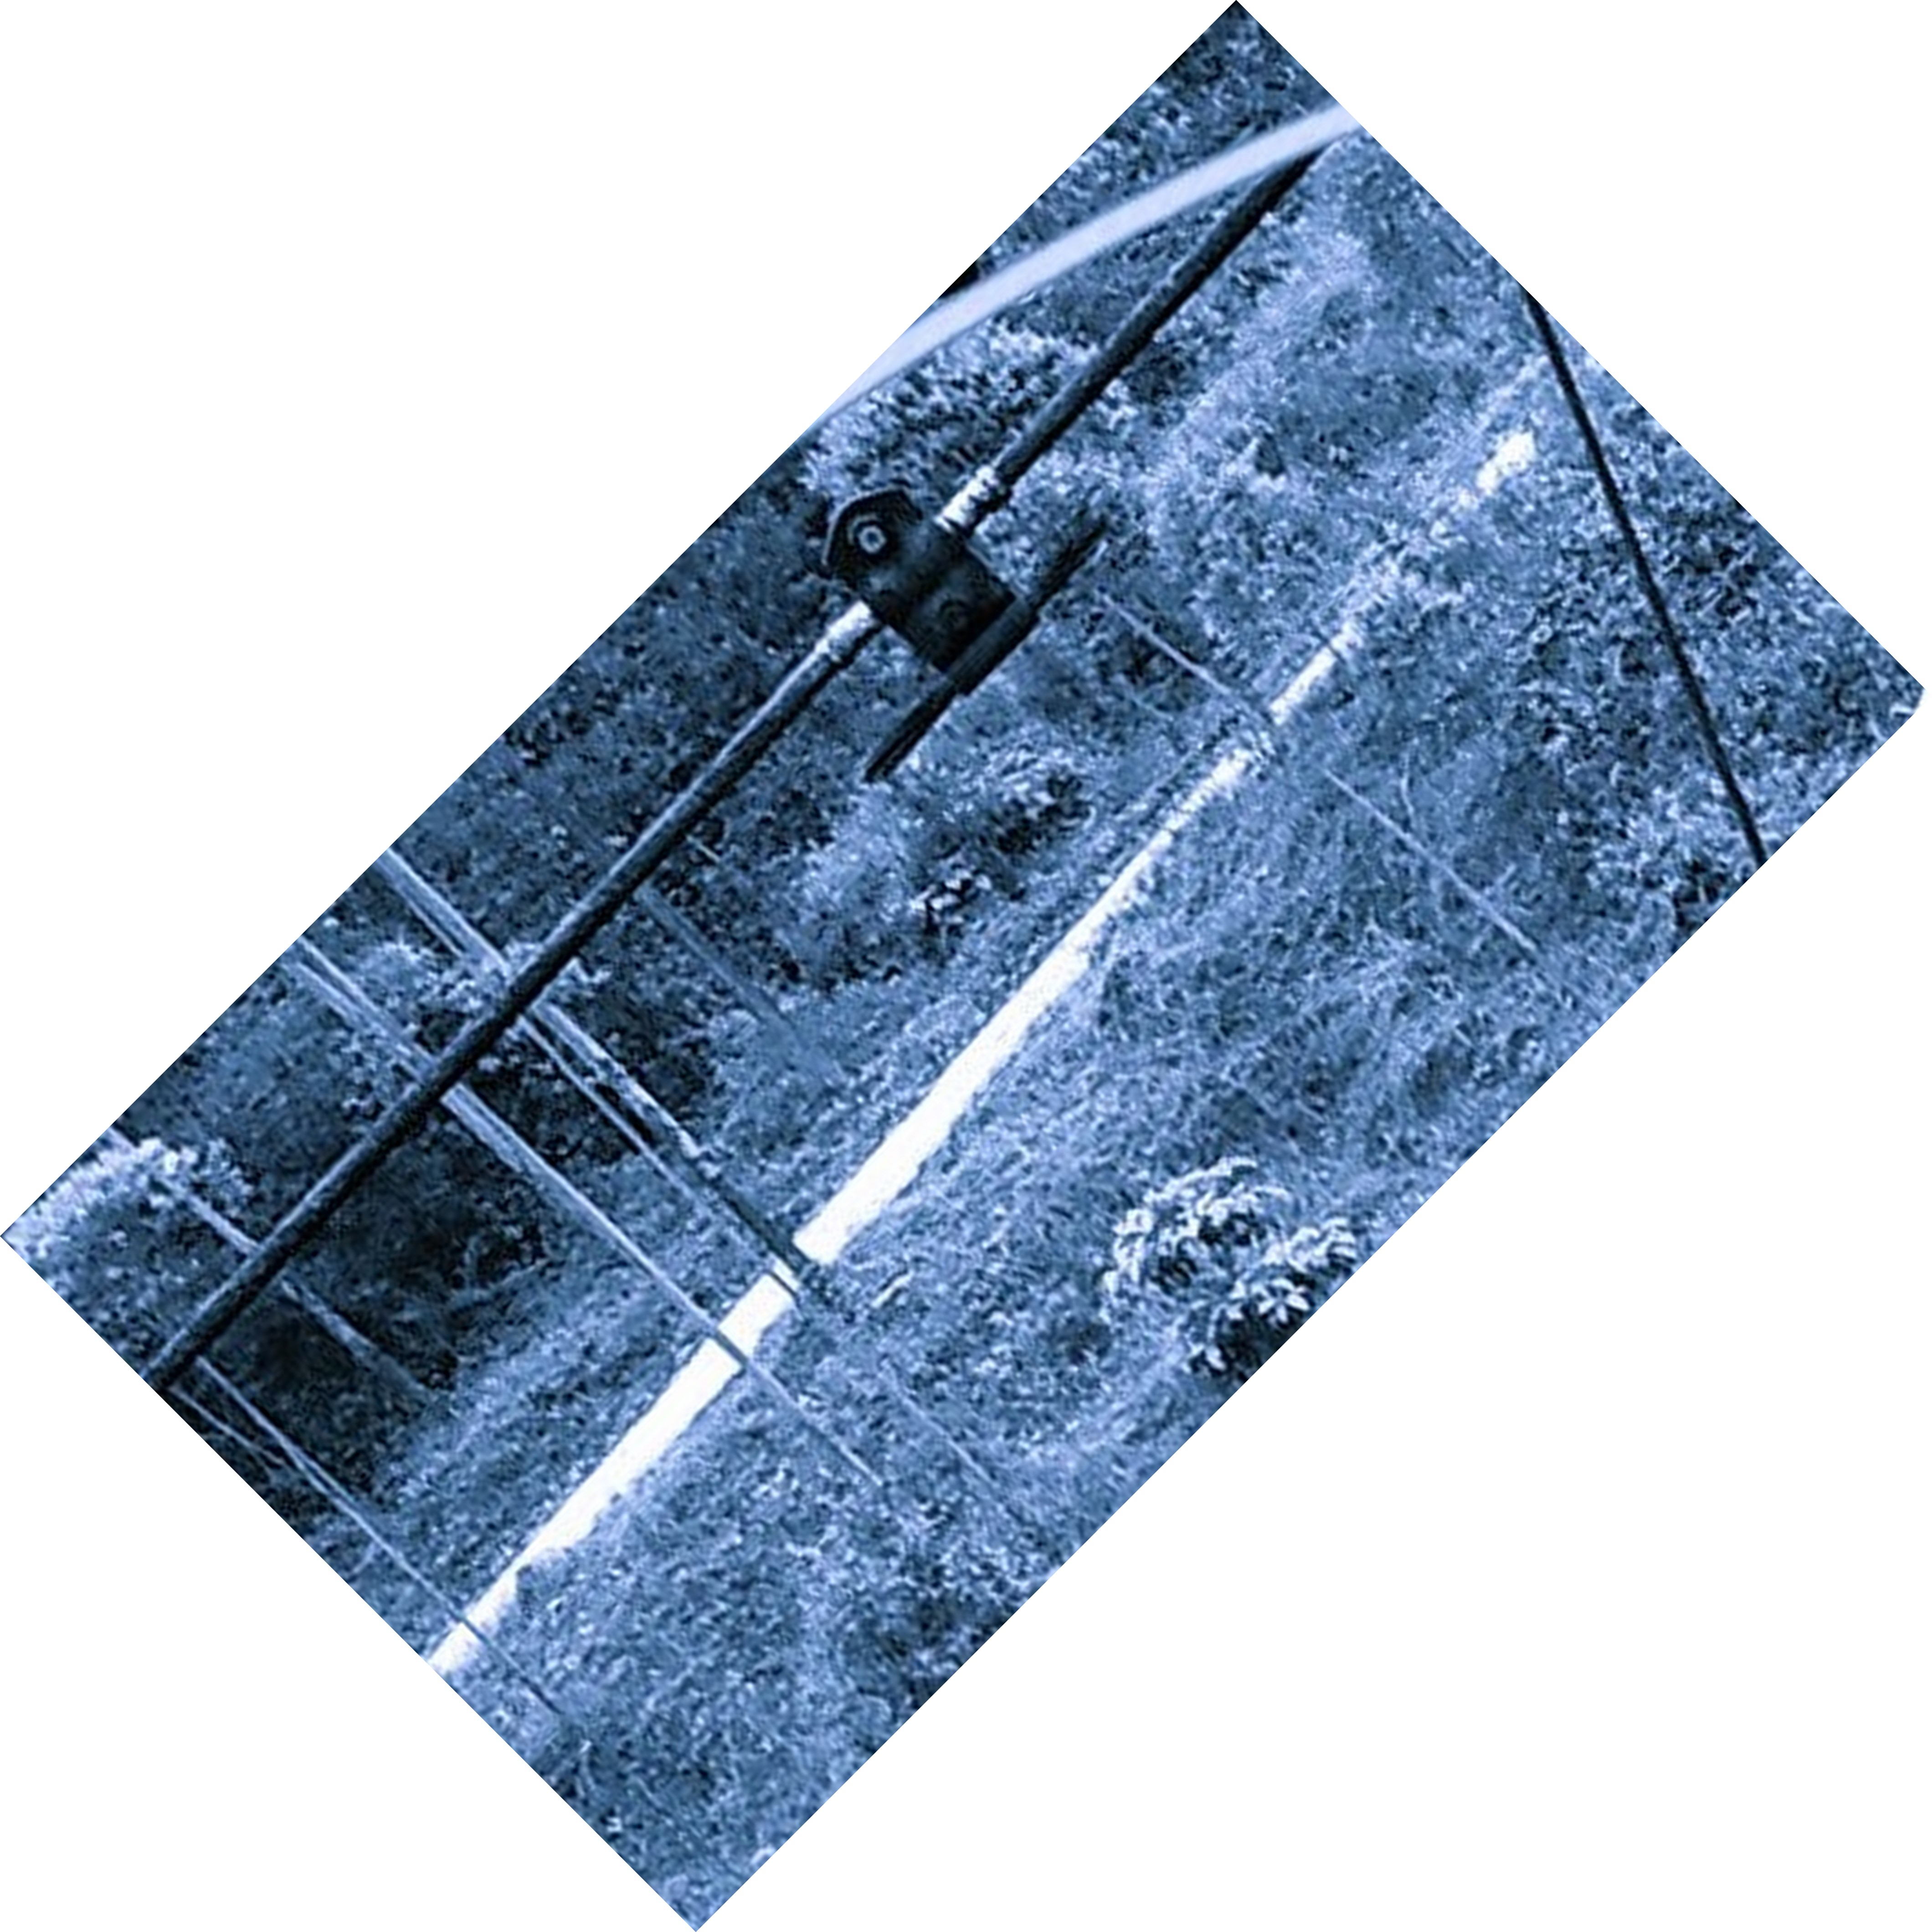Damage of shockproof hammer: (782, 418, 1171, 814)
